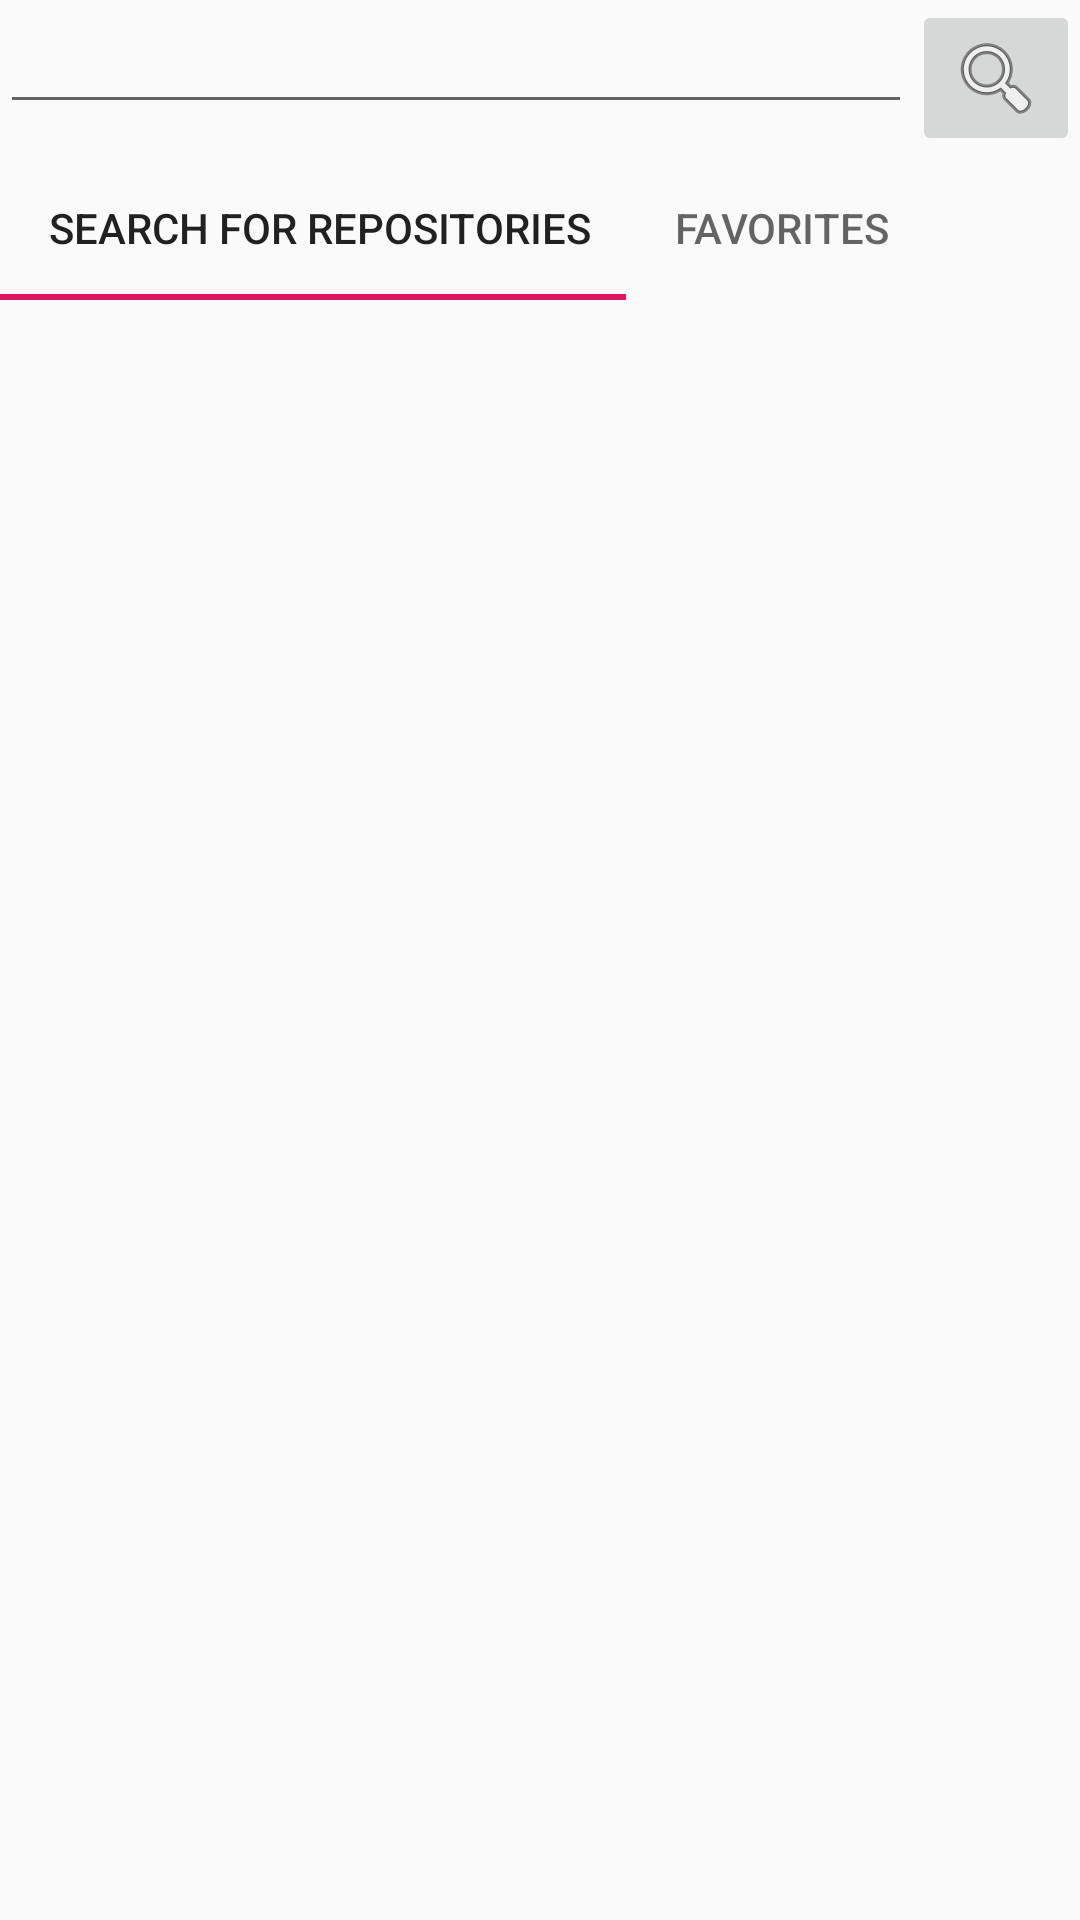

Named icons in this screenshot (1080px x 1920px) and their bounding boxes, (x1,y1,x2,y2):
search: (924,18,1068,138)
